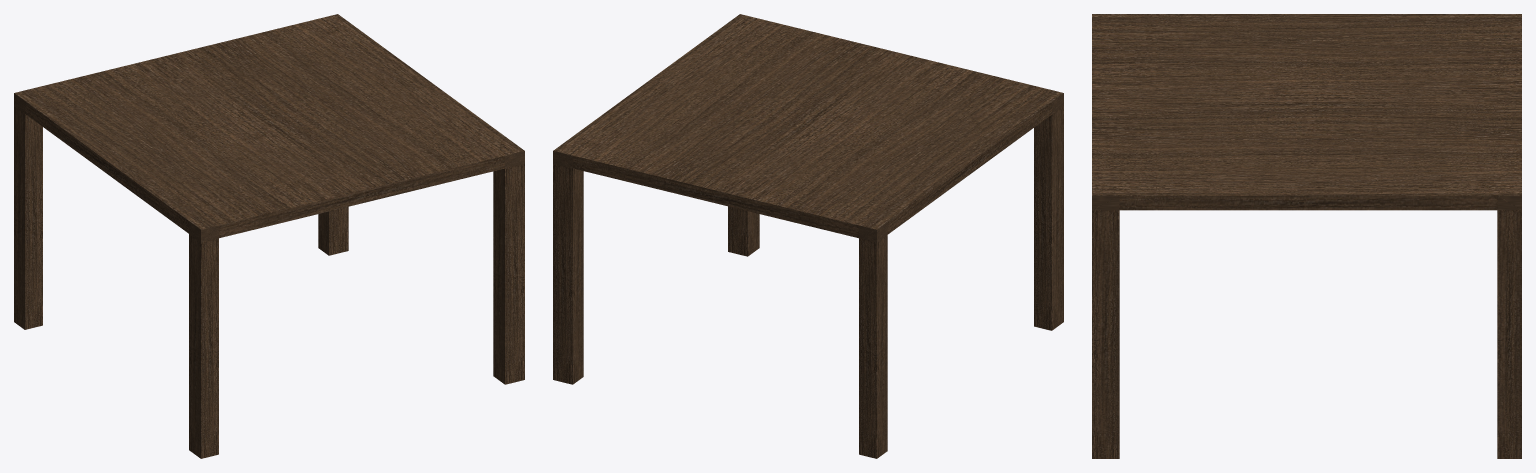
Rendered from kitchentable.fbx.
3 views of the same model, side by side, from view 1: azimuth 30°, elevation 25°; view 2: azimuth 150°, elevation 25°; view 3: azimuth 270°, elevation 25° (orthographic). The views are drawn at different scales.
Parts seen in each view (by area): view 1: pCube1; view 2: pCube1; view 3: pCube1.
Part boxes in pixels (bbox=[...]): pCube1: bbox=[14, 14, 524, 458]; pCube1: bbox=[553, 14, 1063, 458]; pCube1: bbox=[1092, 14, 1521, 458].
Bounding box in the file's own units: 10.23 × 6.92 × 10.23.
Materials: 1 (1 with a texture image).
